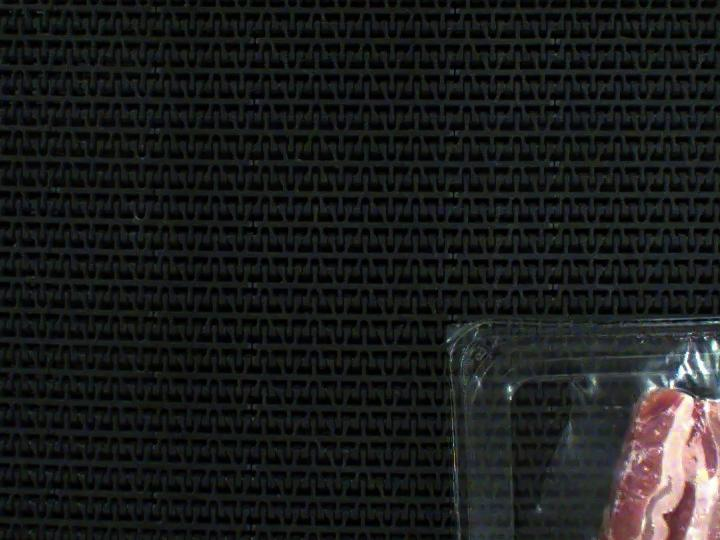unsealed: (528, 338, 720, 540)
